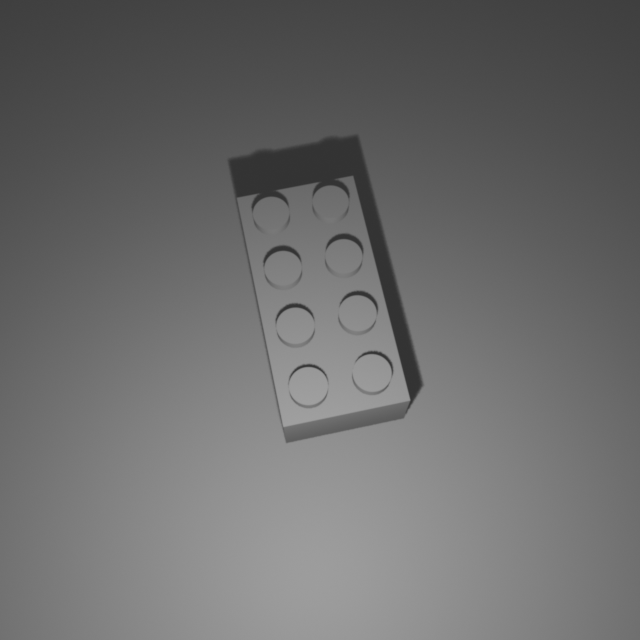lego_2x4: (236, 170, 412, 443)
